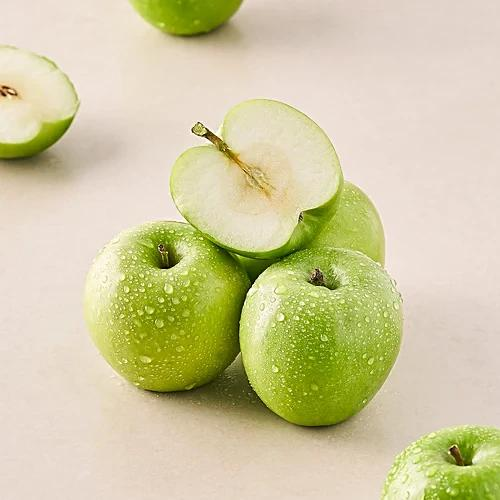non-mango: (79, 99, 401, 431), (384, 393, 500, 497)
